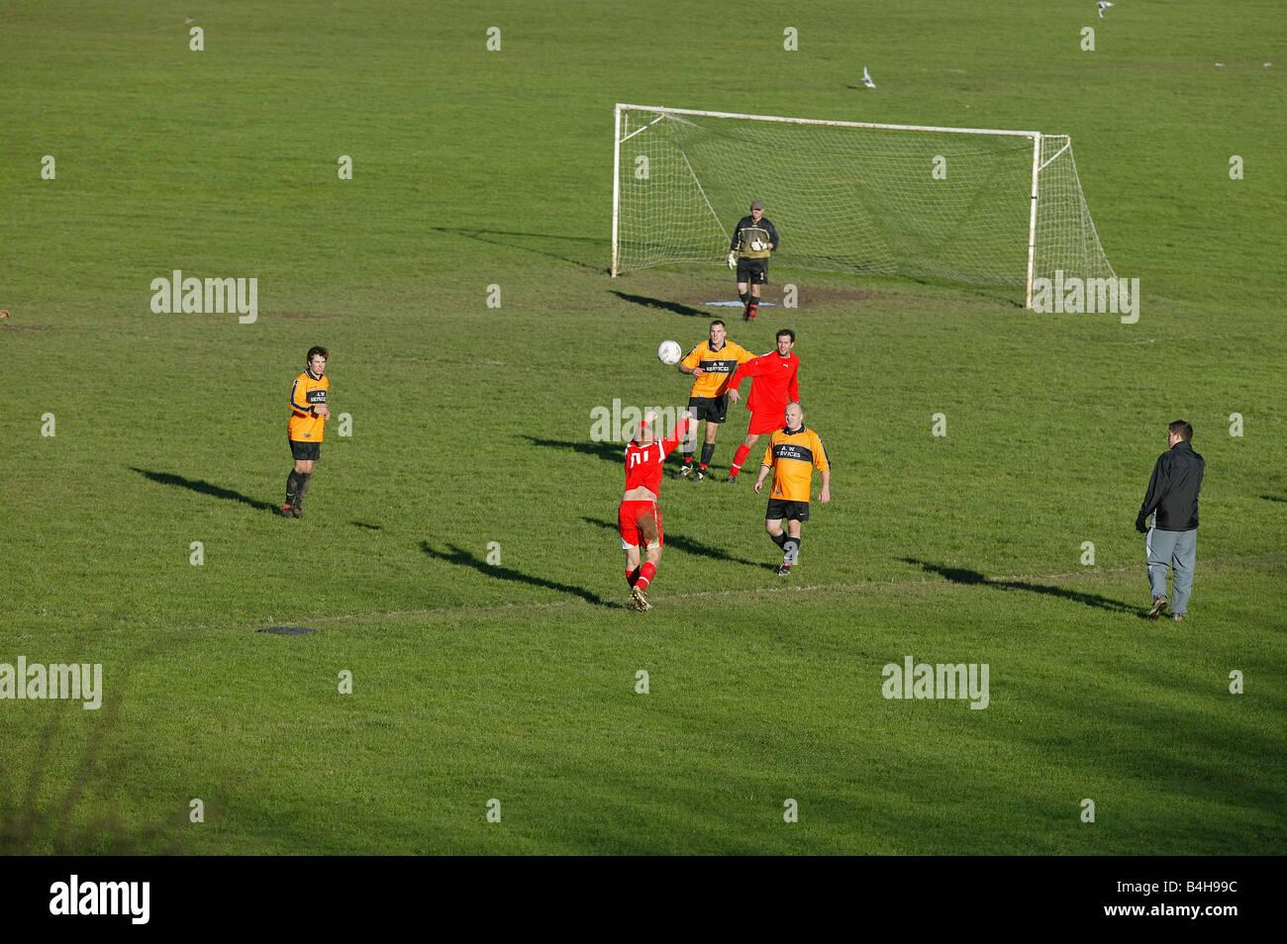ballon_football: (656, 339, 682, 365)
